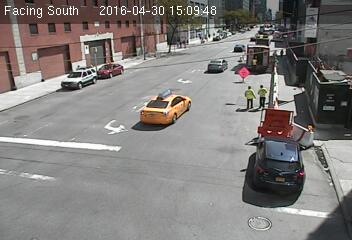neg: (51, 41, 66, 61), (210, 34, 222, 49), (87, 67, 96, 79), (81, 44, 90, 56), (237, 50, 245, 60), (216, 57, 223, 68), (128, 49, 136, 58)
pos: (254, 85, 273, 110), (243, 85, 259, 107), (181, 39, 188, 48)
